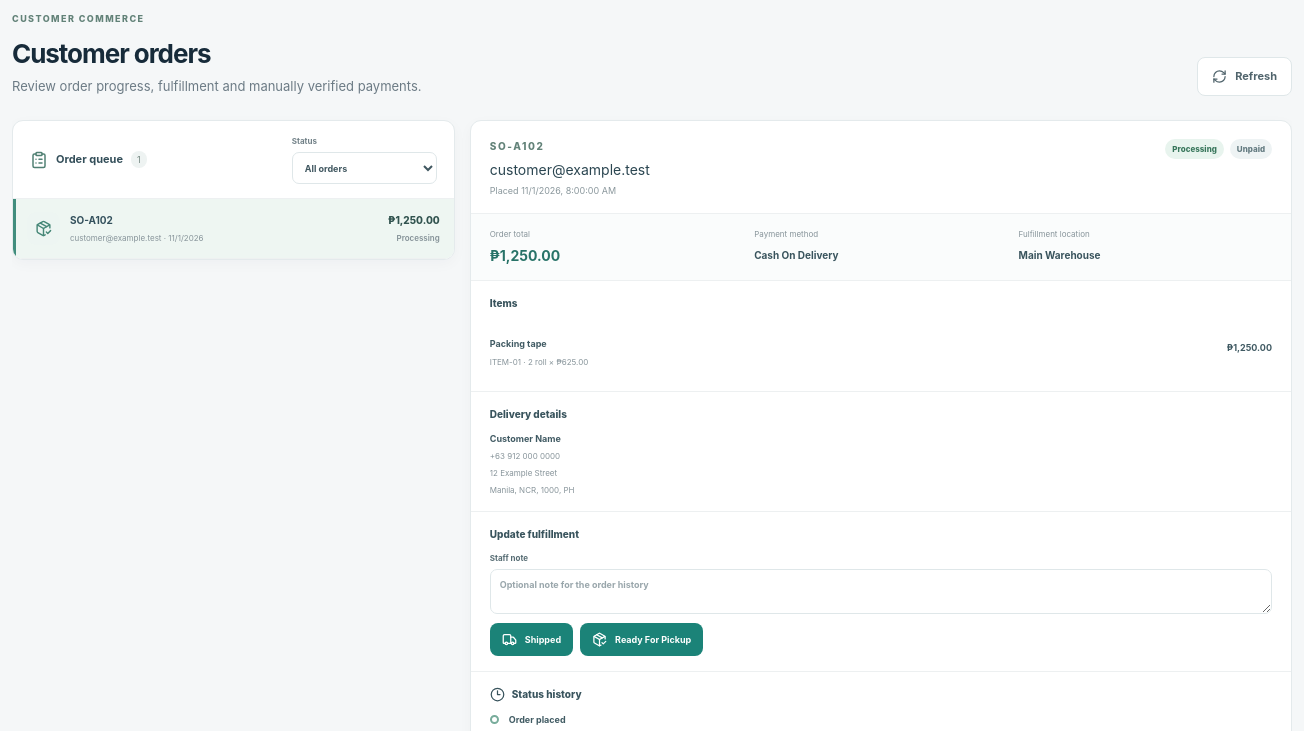
Scenario: Customer order management page › lets warehouse staff advance an order through the allowed fulfillment transition
Expected: the text "SO-A102" is shown 2 times, [70, 214, 113, 226]; [490, 140, 545, 152]
Click the button "Shipped": [531, 640] box [490, 623, 573, 656]
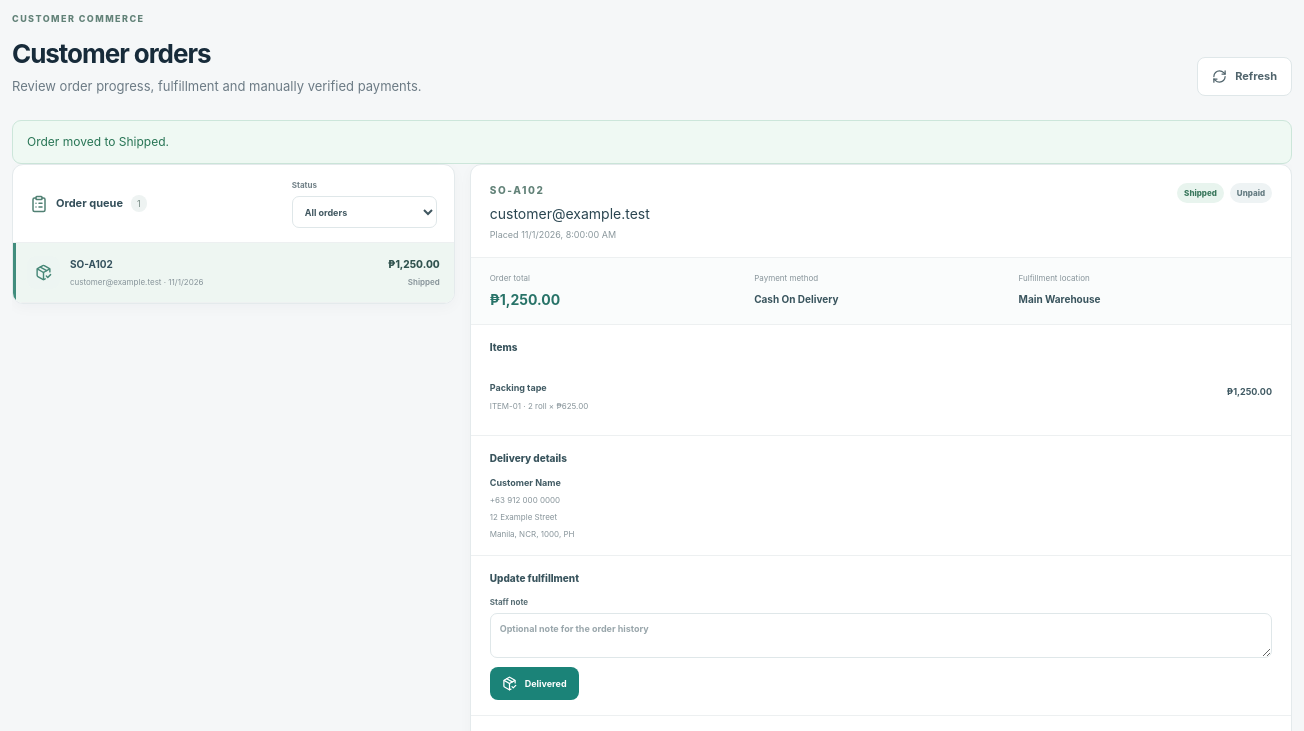
Result: the text "Order moved to Shipped." is shown at [12, 120, 1292, 164]
